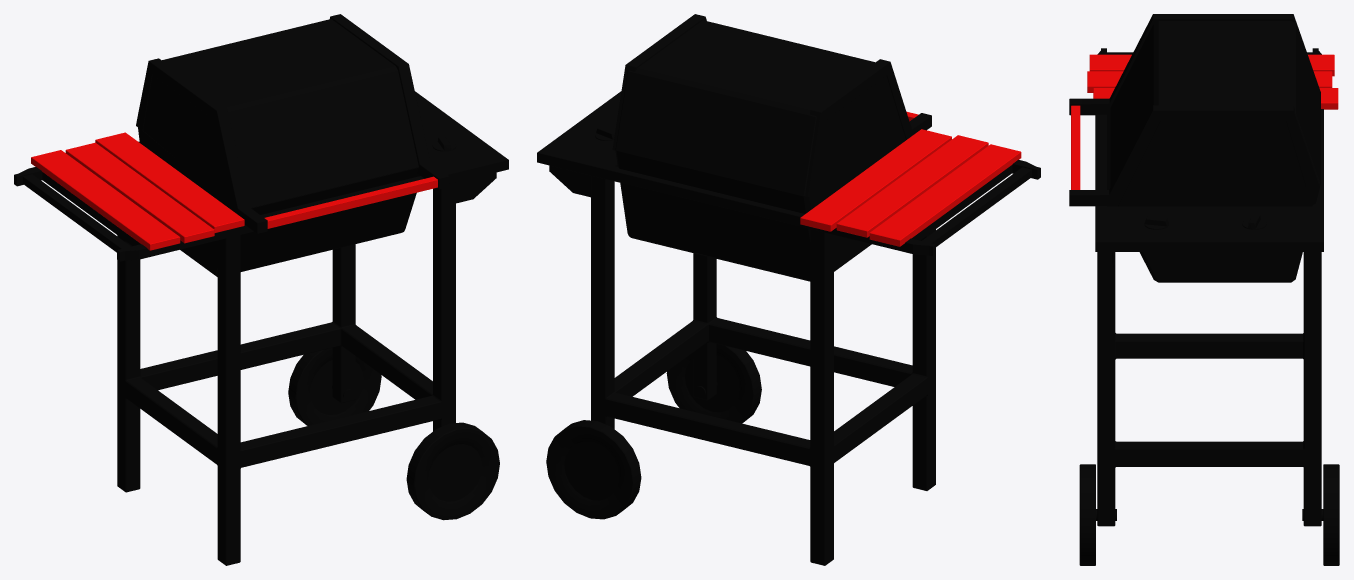
Rendered from gas_grill.glb.
The picture shows the model from 3 angles, left to right: view 1: azimuth 30°, elevation 25°; view 2: azimuth 150°, elevation 25°; view 3: azimuth 270°, elevation 25°; orthographic projection. The views are drawn at different scales.
Parts seen in each view (by area): view 1: pCylinder40; view 2: pCylinder40; view 3: pCylinder40.
Boxes of the visible parts, x1,y1,x2,y2 form: pCylinder40: [14, 14, 508, 565]; pCylinder40: [537, 14, 1040, 565]; pCylinder40: [1069, 14, 1339, 565].
Bounding box in the file's own units: 1.05 × 1.12 × 0.6166.
